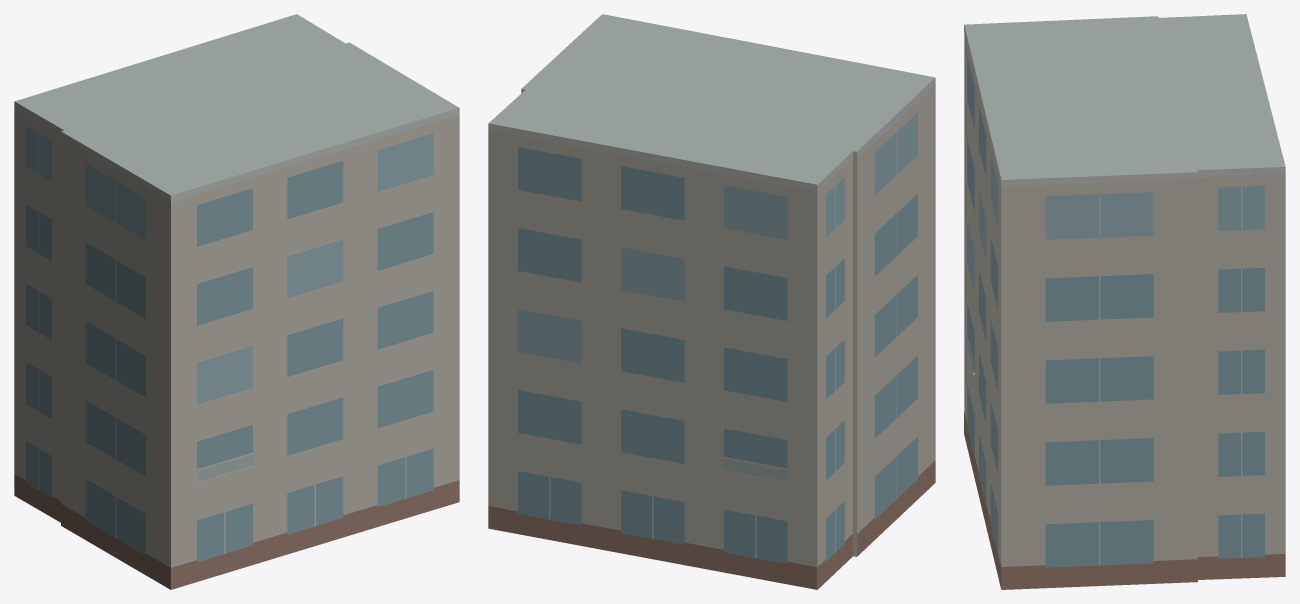
File: survey-upis-32659576.glb
3 views of the same model, side by side, from view 1: azimuth 30°, elevation 25°; view 2: azimuth 150°, elevation 25°; view 3: azimuth 270°, elevation 25° (orthographic). The views are drawn at different scales.
Visible parts, largest first — view 1: survey-upis-32659576.tmp; view 2: survey-upis-32659576.tmp; view 3: survey-upis-32659576.tmp.
Boxes of the visible parts, x1=… form: survey-upis-32659576.tmp: x1=14, y1=14, x2=459, y2=589; survey-upis-32659576.tmp: x1=488, y1=14, x2=935, y2=589; survey-upis-32659576.tmp: x1=964, y1=14, x2=1285, y2=589.
Size of the model in its own units: 12.43 by 14.3 by 10.17.
